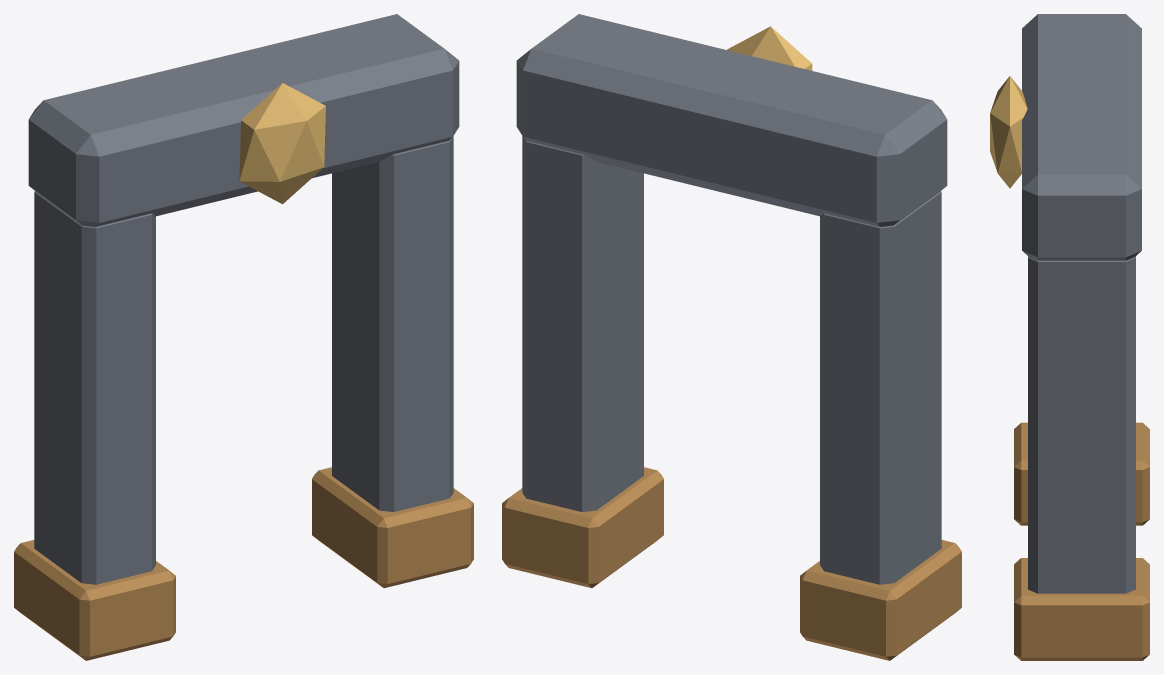
The model's file is door-arch.fbx.
3 views of the same model, side by side, from view 1: azimuth 30°, elevation 25°; view 2: azimuth 150°, elevation 25°; view 3: azimuth 270°, elevation 25° (orthographic). The views are drawn at different scales.
Parts seen in each view (by area): view 1: lintel, jamb, jamb.001, jamb base, jamb base.001, keystone; view 2: lintel, jamb, jamb.001, jamb base, jamb base.001, keystone; view 3: jamb.001, lintel, jamb base.001, keystone, jamb base.
Part boxes in pixels (x1=…): lintel: x1=28, y1=14, x2=459, y2=226; jamb: x1=34, y1=191, x2=155, y2=584; jamb.001: x1=332, y1=136, x2=453, y2=511; jamb base: x1=14, y1=540, x2=175, y2=660; jamb base.001: x1=312, y1=467, x2=473, y2=588; keystone: x1=239, y1=83, x2=325, y2=204; lintel: x1=516, y1=14, x2=947, y2=226; jamb: x1=820, y1=191, x2=941, y2=584; jamb.001: x1=522, y1=136, x2=643, y2=511; jamb base: x1=800, y1=540, x2=961, y2=660; jamb base.001: x1=502, y1=467, x2=663, y2=588; keystone: x1=727, y1=26, x2=812, y2=70; jamb.001: x1=1028, y1=256, x2=1135, y2=593; lintel: x1=1022, y1=14, x2=1141, y2=260; jamb base.001: x1=1014, y1=558, x2=1149, y2=660; keystone: x1=990, y1=76, x2=1027, y2=188; jamb base: x1=1014, y1=422, x2=1149, y2=525.
Size of the model in its own units: 106 by 138 by 39.98.
